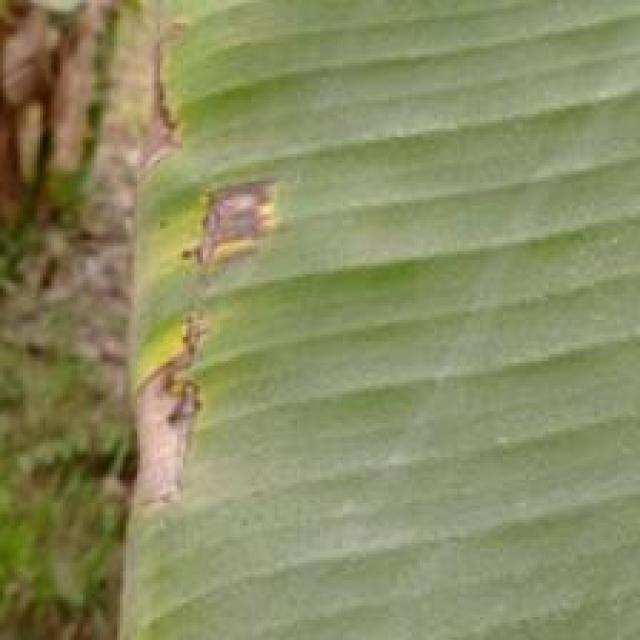Bacterial_spot: (123, 301, 219, 540), (108, 12, 202, 172), (168, 169, 294, 288)
